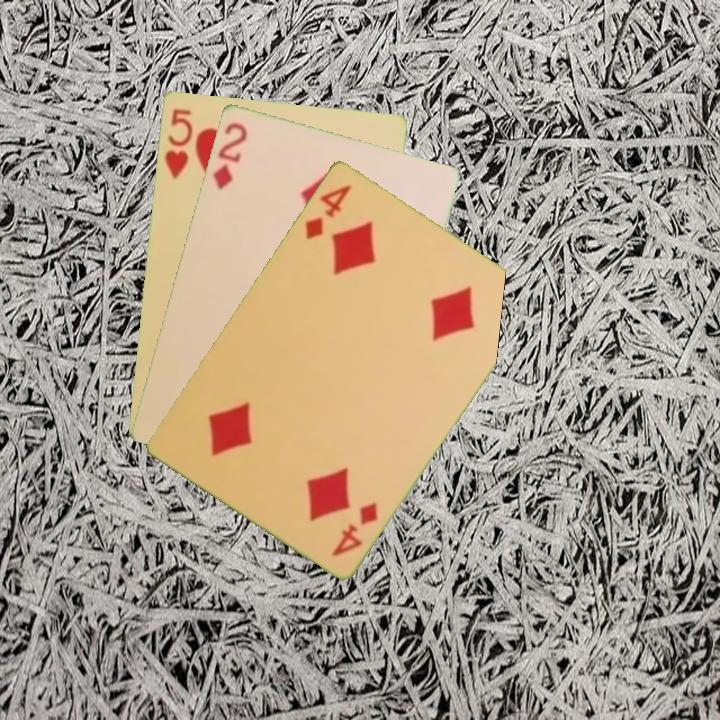2d: (209, 118, 250, 192)
4d: (301, 180, 354, 242), (328, 498, 381, 559)
5h: (160, 104, 196, 182)
